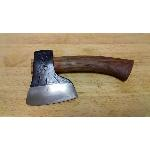Kapak: (22, 43, 140, 110)
